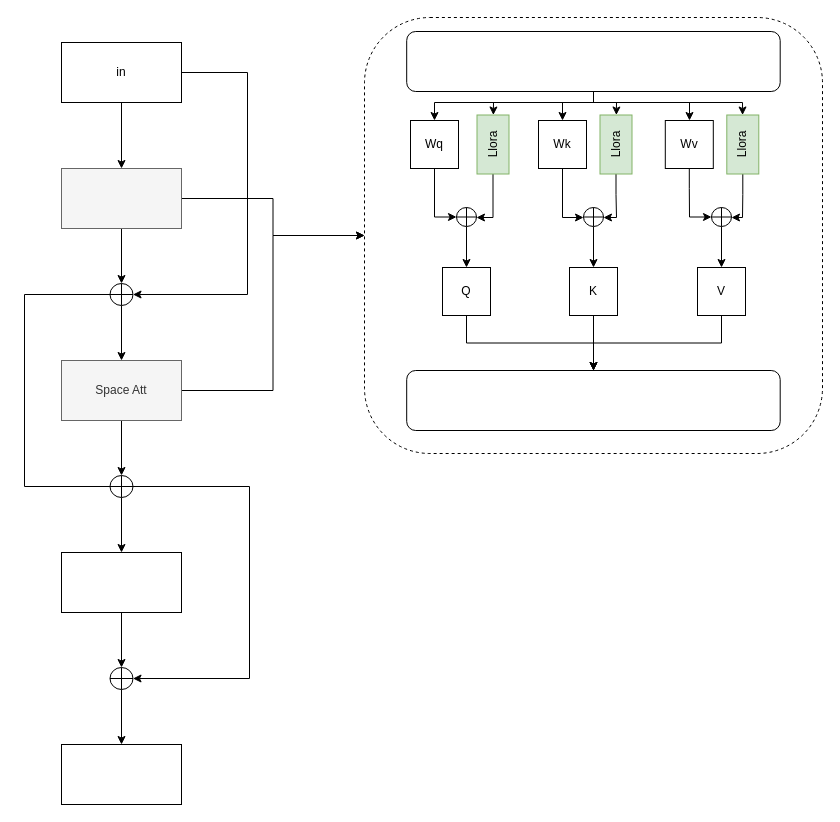
The diagram is 840 pixels wide and 822 high, and some of its shapes have lost their labels. Each missing label, with the centre of its shape:
Attention: the point at 593,400
Hidden States: the point at 593,61
MLP: the point at 121,582
out: the point at 121,774
Time att: the point at 121,198
